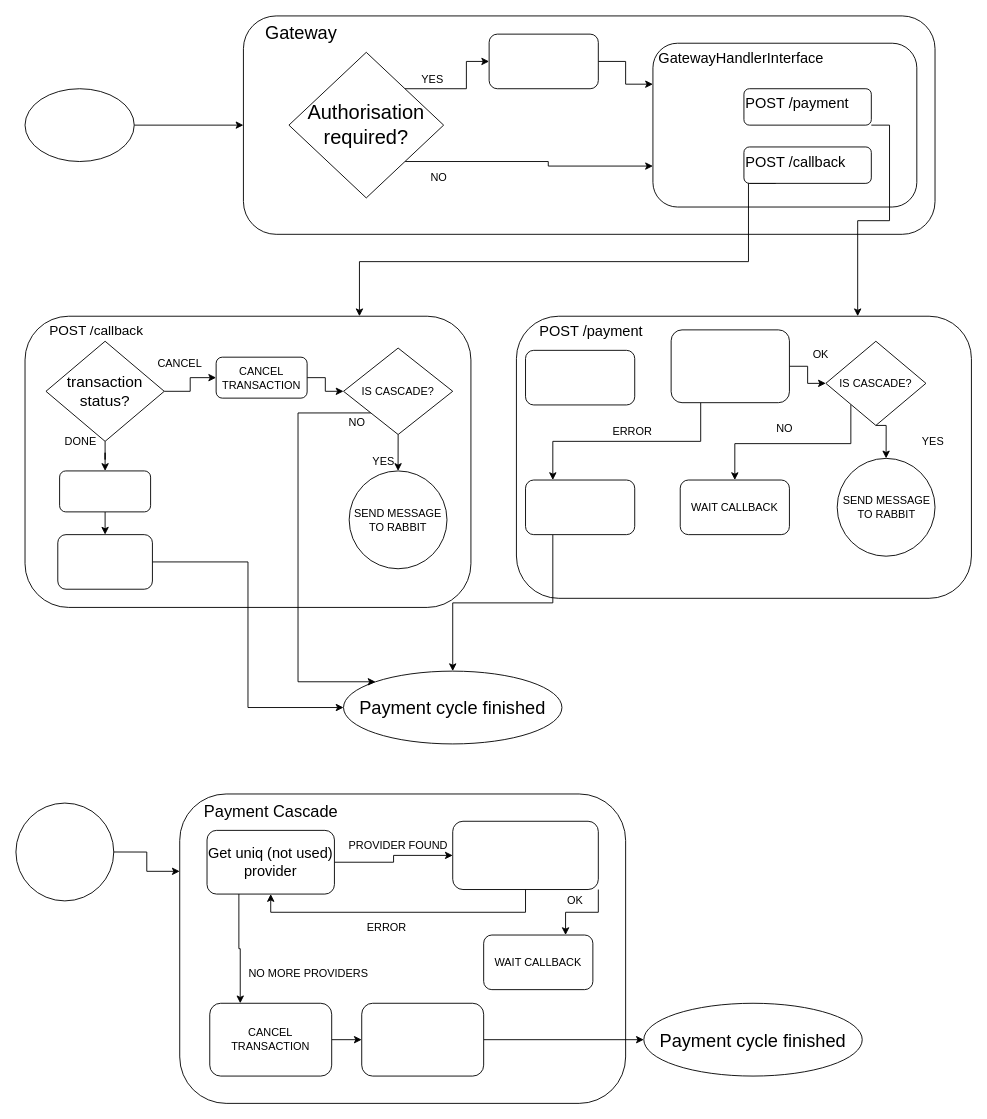
Image size: 987x1119. Some labels were removed from this diagram. The centre of each missing label's shape, as x and y in pixels:
"CANCEL TRANSCTION" goes at point 580,507.
"Client" goes at point 79,125.
"CREATE TRANSACTION AND REQUEST PAYMENT" goes at point 525,855.
"Find player by token" goes at point 543,61.
"FLUSH TRANSACTION" goes at point 105,491.
"GET MESSAGE FROM RABBIT" goes at point 64,851.
"IF CASCADE - MARK CASCADE AS SUCCES" goes at point 104,561.
"MARK CASCADE AS FAILED" goes at point 422,1039.
"Prepare Transaction" goes at point 580,377.
"Process Transaction (request payment)" goes at point 729,366.
